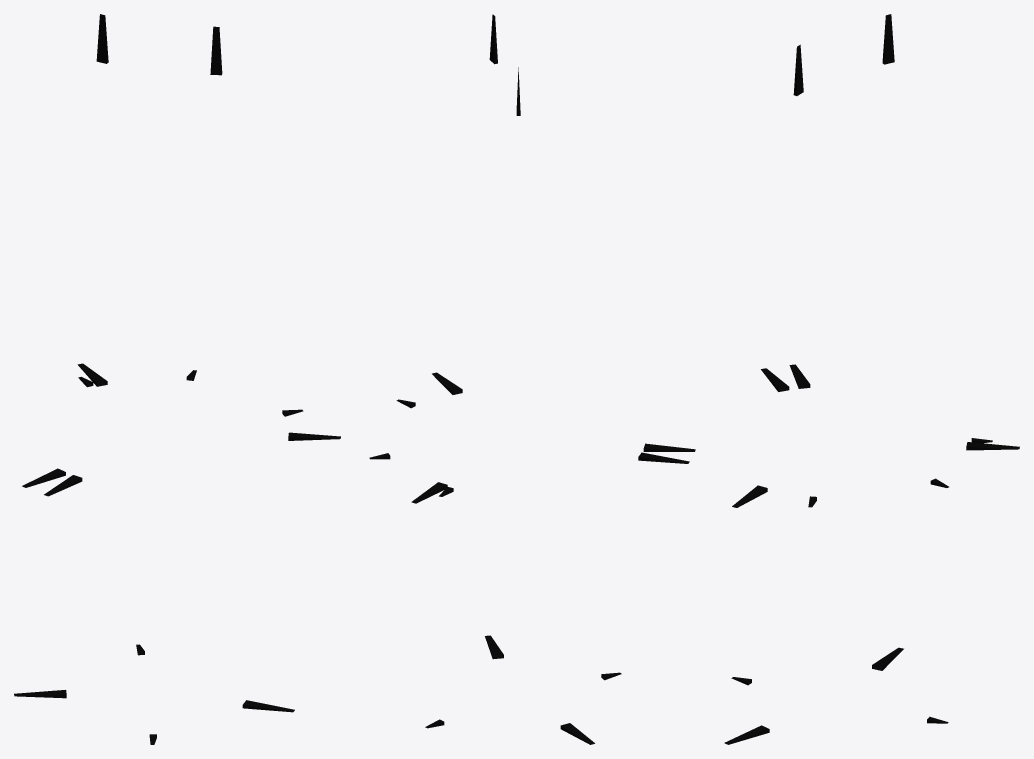
File: tr1_outpost_01.glb
The picture shows the model from 3 angles, left to right: view 1: azimuth 30°, elevation 25°; view 2: azimuth 150°, elevation 25°; view 3: azimuth 270°, elevation 25°; orthographic projection. The views are drawn at different scales.
Visible parts, largest first — view 1: tr1_outpost_01_LOD0; view 2: tr1_outpost_01_LOD0; view 3: tr1_outpost_01_LOD0.
Part boxes in pixels (left/top/right/bottom): tr1_outpost_01_LOD0: left=14, top=14, right=340, bottom=744; tr1_outpost_01_LOD0: left=369, top=14, right=695, bottom=744; tr1_outpost_01_LOD0: left=724, top=14, right=1019, bottom=744.
Size of what is drawn, in the model's own units: 14.57 by 32.23 by 12.68.
Materials: 1 (1 with a texture image).
